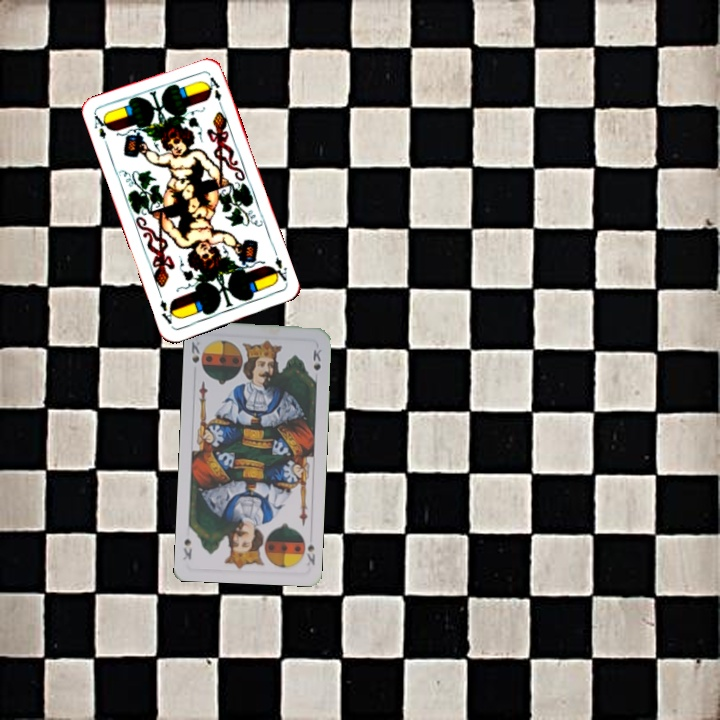EA: (90, 111, 111, 150), (268, 247, 290, 284)
SK: (298, 532, 318, 568), (187, 338, 206, 372)
